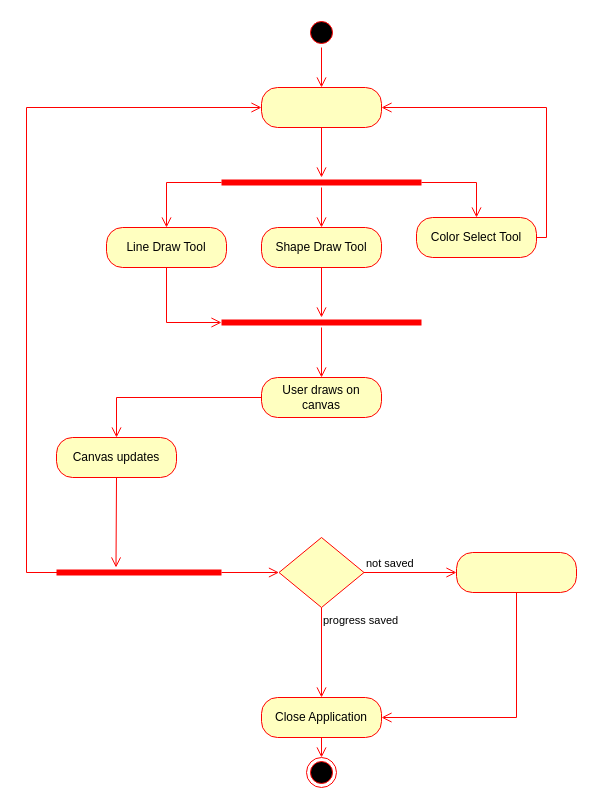
The diagram is 594 pixels wide and 805 high, and some of its shapes have lost their labels. Here are the shapes that lost their labels. From the top down, the centre of each, then its label:
At (x=321, y=107): "User selects tool".
At (x=321, y=572): "User clicks close".
At (x=516, y=572): "Ask if user wants to save".
